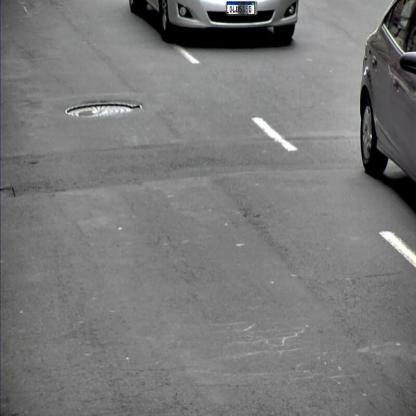PlacaM: (227, 2, 255, 14)
